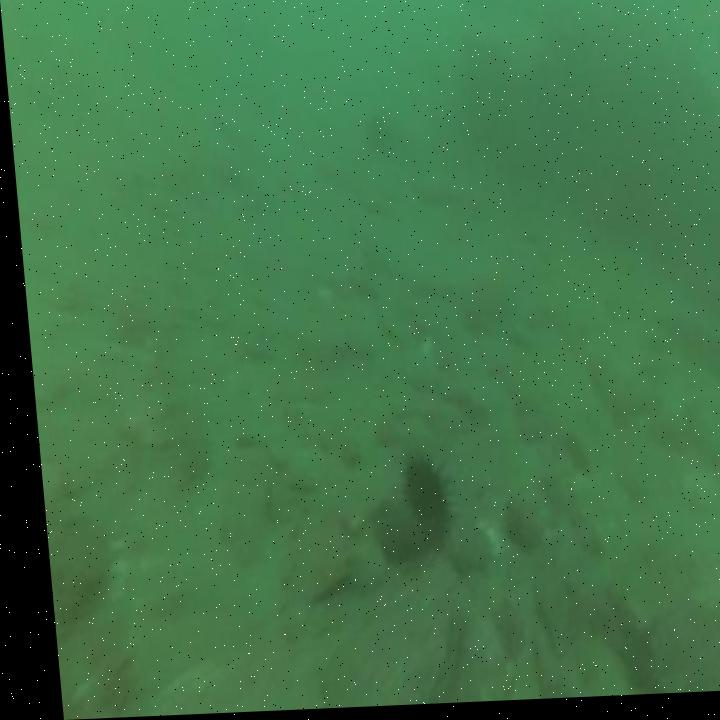echinus: (387, 450, 448, 553)
